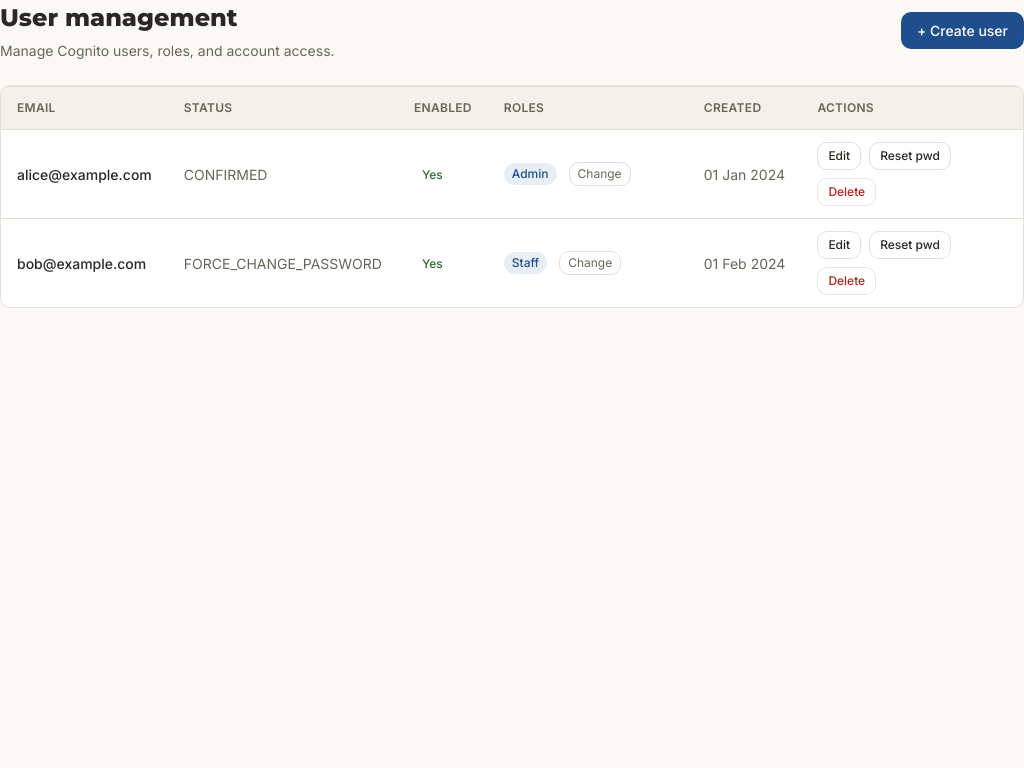
Test: UsersPage — delete flow › shows a success banner after deleting a user
Expected: the text "alice@example.com" is shown, [1,130,168,218]
Click the button with aria-label "delete alice@example.com" at point(847, 192), box [817,178,876,206]
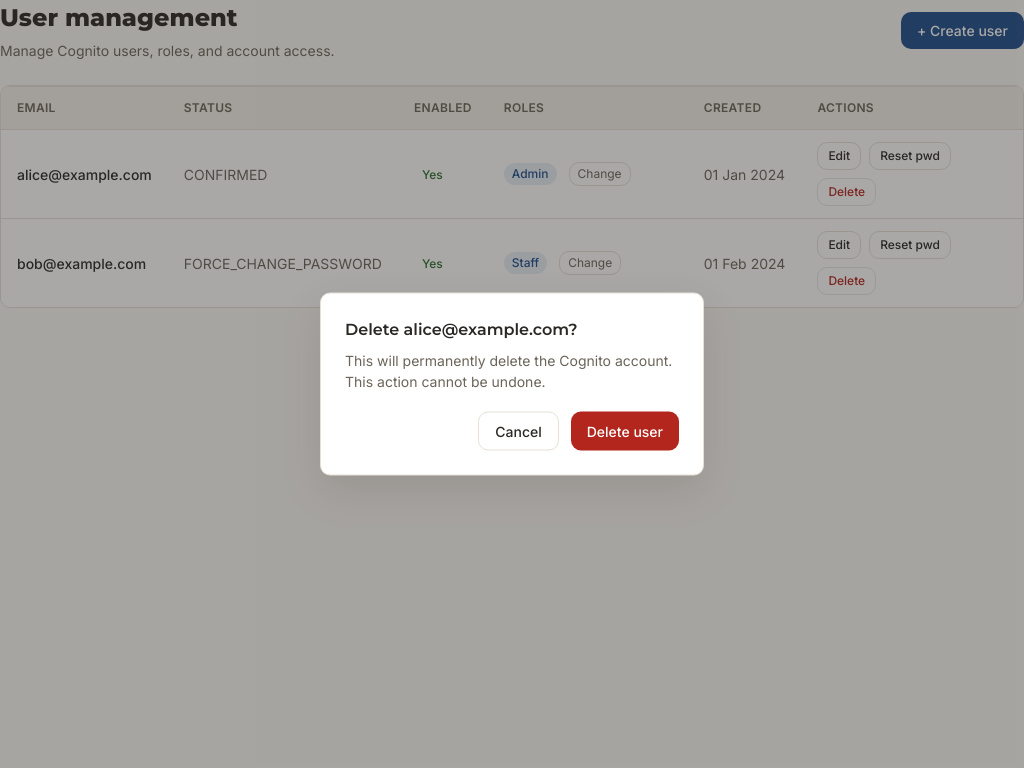
Click the button "Delete user" at point(625, 431), box [571,412,679,450]
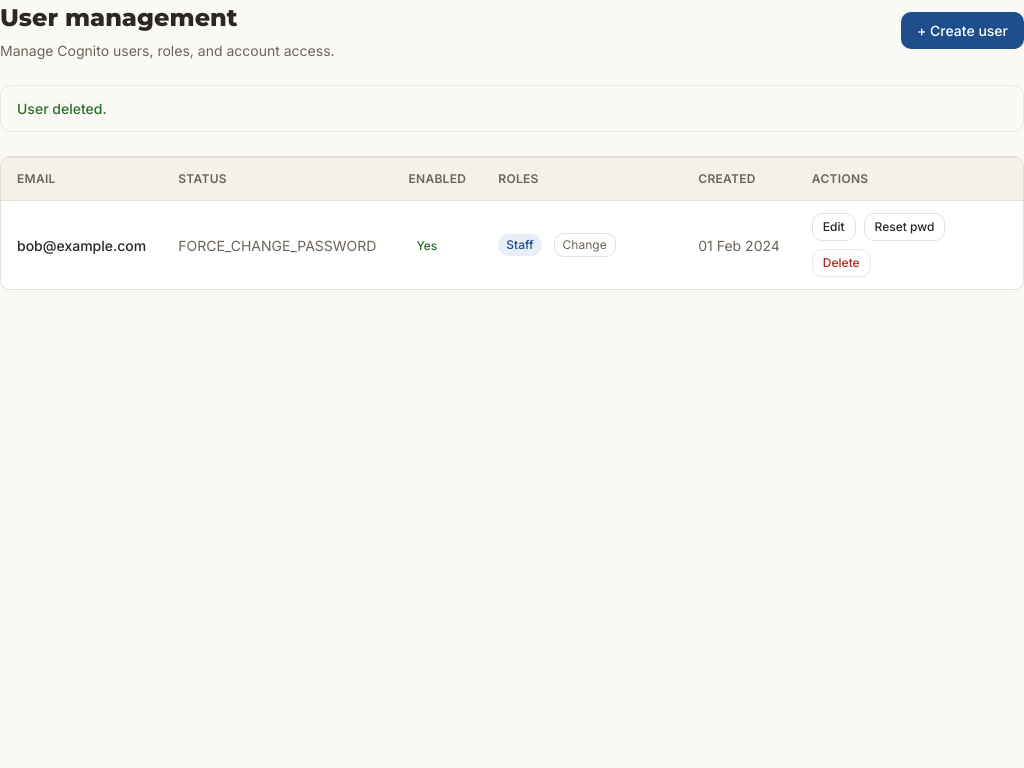
Expected: the message shows "User deleted", [17,100,107,117]
